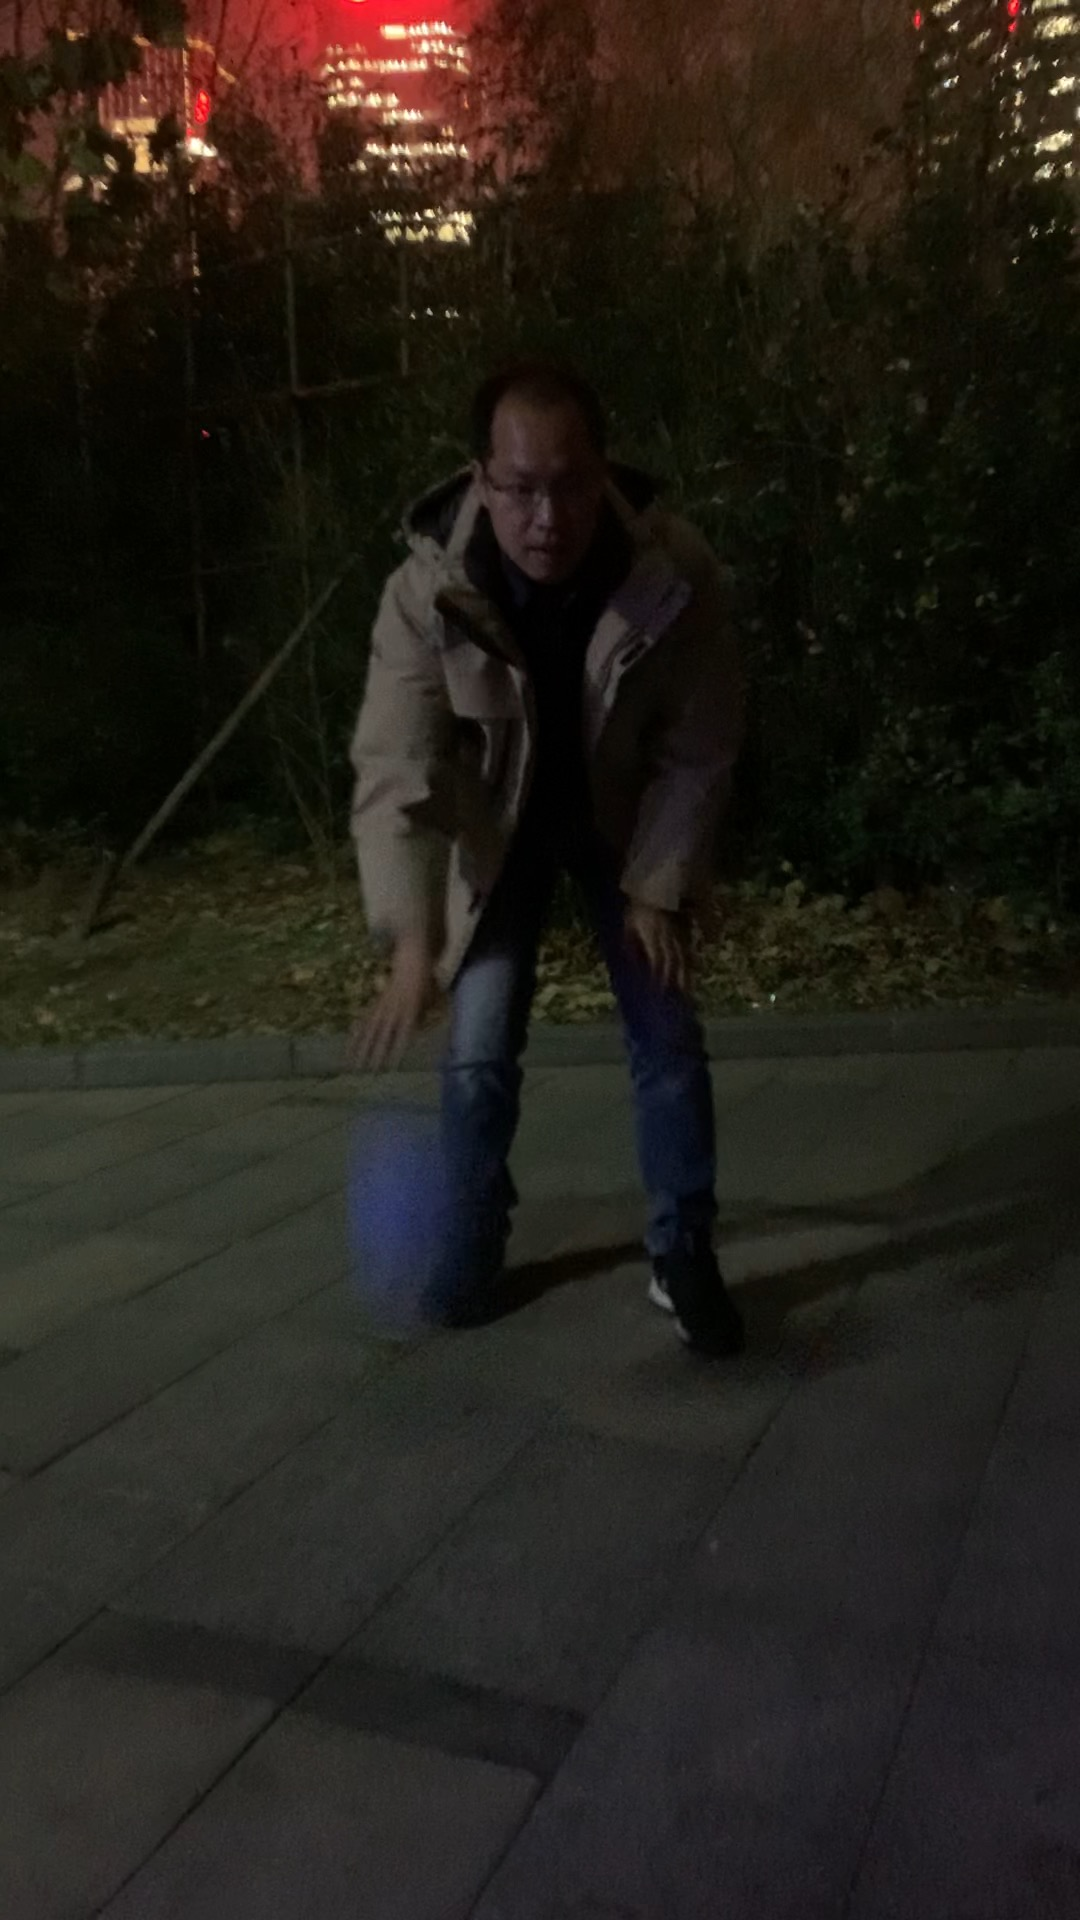ball: (342, 1133, 502, 1300)
